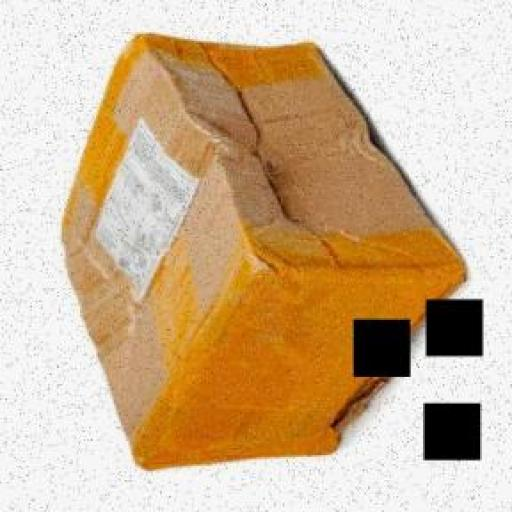box: (51, 24, 488, 472)
